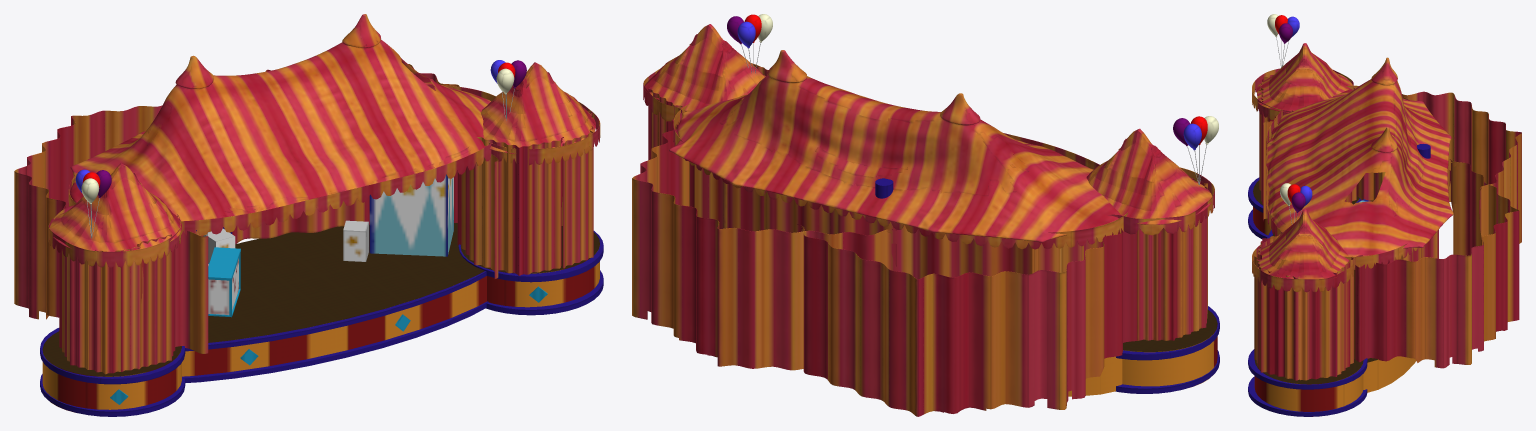
The model's file is old stage.fbx.
3 views of the same model, side by side, from view 1: azimuth 30°, elevation 25°; view 2: azimuth 150°, elevation 25°; view 3: azimuth 270°, elevation 25° (orthographic). The views are drawn at different scales.
Visible parts, largest first — view 1: tent, Main_Stage, Courtain_2, Courtain_3, courtain_2, Lionel_stage, Cubo, Ellie_stage, courtain, Courtain_2_2, Charlie_s_piano_1, Courtain (+3 smaller); view 2: tent, Courtain_2, Courtain, Main_Stage, courtain_2, Lionel_stage, Balloons, Balloons_2, Courtain_2_2; view 3: tent, Courtain, Courtain_2_2, Courtain_2, Ellie_stage, Main_Stage, Lionel_stage, Balloons, Balloons_2, courtain, courtain_2.
Boxes of the visible parts, box(x1,y1,x2,y2) form: tent: box(48, 14, 600, 267); Main_Stage: box(182, 170, 488, 382); Courtain_2: box(14, 105, 208, 353); Courtain_3: box(457, 137, 563, 275); courtain_2: box(59, 247, 143, 374); Lionel_stage: box(40, 328, 185, 416); Cubo: box(369, 174, 453, 256); Ellie_stage: box(458, 226, 603, 315); courtain: box(137, 214, 178, 369); Courtain_2_2: box(561, 111, 593, 268); Charlie_s_piano_1: box(208, 247, 240, 317); Courtain: box(265, 64, 498, 278); tent: box(643, 24, 1214, 249); Courtain_2: box(797, 224, 1137, 416); Courtain: box(632, 119, 896, 370); Main_Stage: box(689, 162, 1122, 396); courtain_2: box(1137, 178, 1207, 340); Lionel_stage: box(1115, 306, 1219, 393); Balloons: box(1173, 116, 1218, 184); Balloons_2: box(727, 14, 772, 73); Courtain_2_2: box(648, 87, 682, 160); tent: box(1252, 43, 1453, 292); Courtain: box(1354, 159, 1519, 368); Courtain_2_2: box(1254, 256, 1353, 380); Courtain_2: box(1263, 91, 1521, 244); Ellie_stage: box(1248, 349, 1367, 416); Main_Stage: box(1267, 172, 1438, 392); Lionel_stage: box(1248, 177, 1361, 238); Balloons: box(1267, 14, 1299, 67); Balloons_2: box(1280, 183, 1312, 224); courtain: box(1260, 87, 1356, 204); courtain_2: box(1259, 75, 1273, 189).
Bounding box in the file's own units: 2876 × 1335 × 1522.
Materials: 1 (1 with a texture image).
